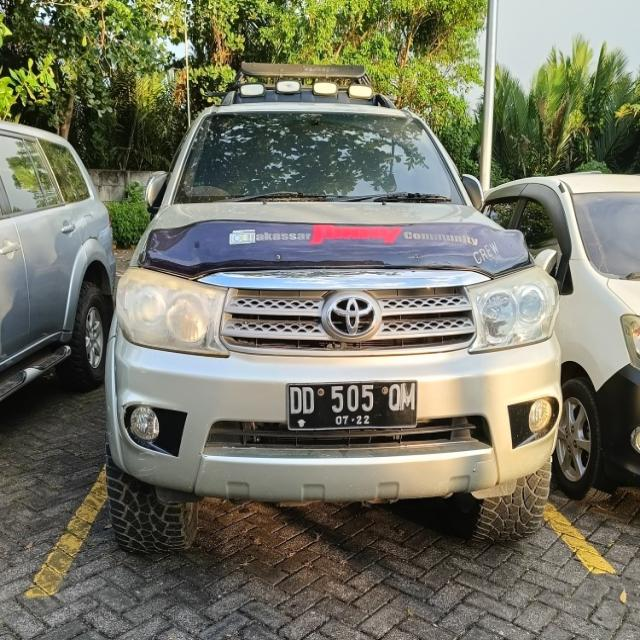plates: (292, 374, 415, 431)
